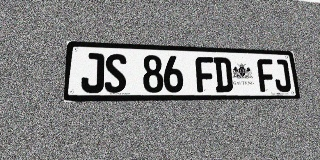6: (163, 55, 184, 92)
8: (143, 55, 164, 93)
D: (213, 57, 233, 92)
F: (195, 56, 215, 92), (257, 59, 276, 92)
J: (81, 53, 104, 93), (272, 59, 292, 92)
S: (104, 53, 126, 93)
